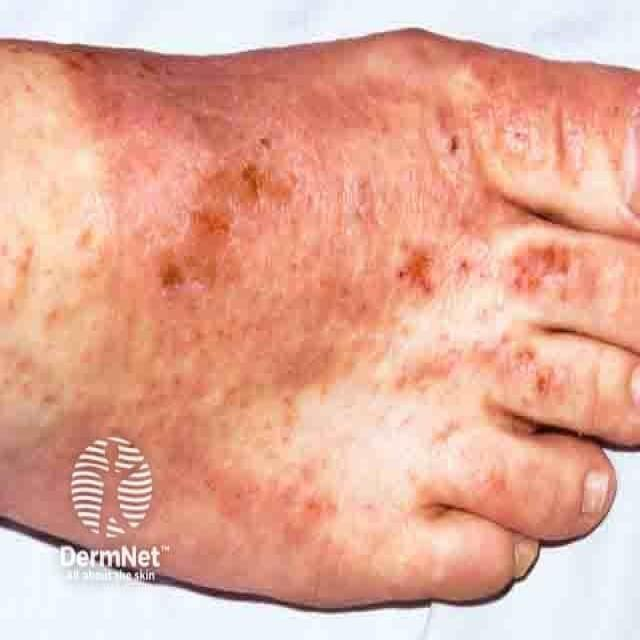Eczema: (26, 46, 572, 562)
